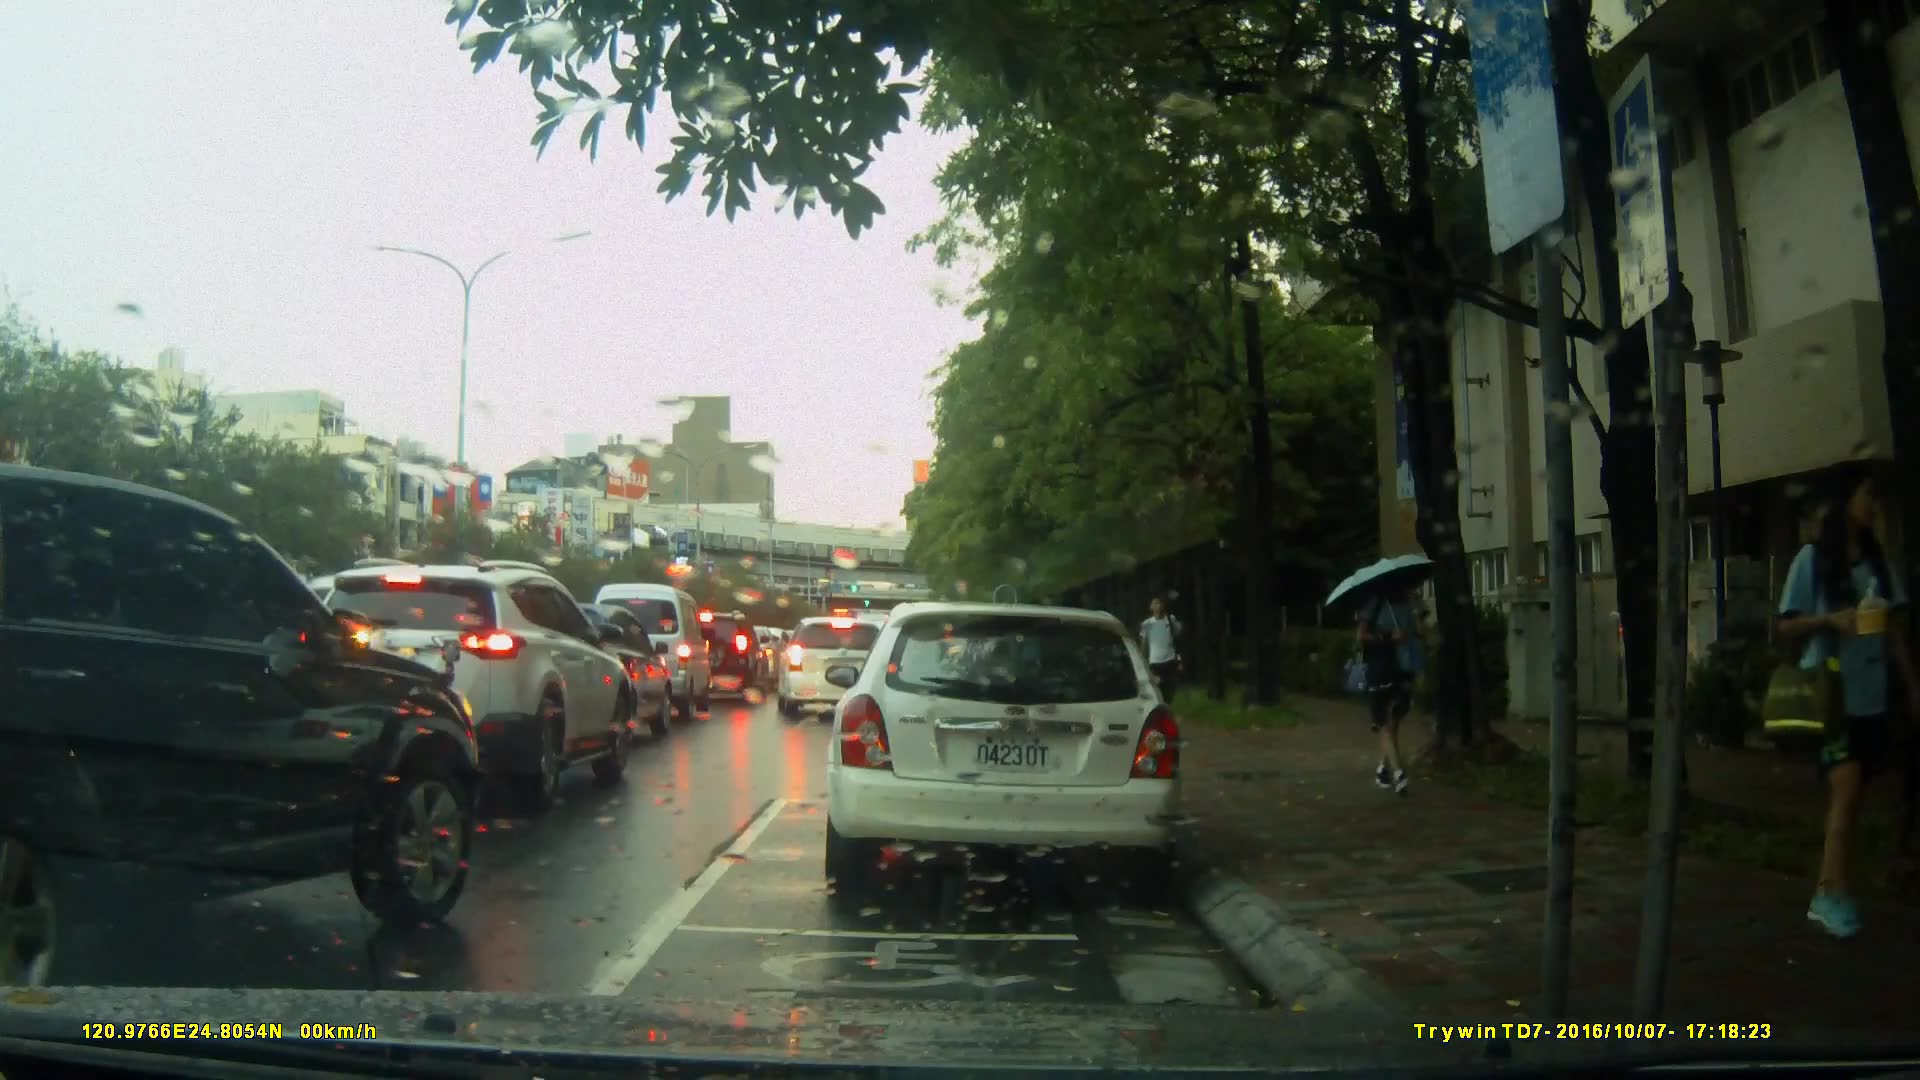pedestrian: (1755, 469, 1904, 962), (1340, 545, 1436, 801), (1143, 591, 1186, 712)
vehicle: (1, 461, 483, 986), (820, 602, 1188, 898), (293, 556, 639, 803), (476, 602, 677, 750), (577, 582, 711, 729), (775, 616, 909, 720), (674, 611, 767, 698)
